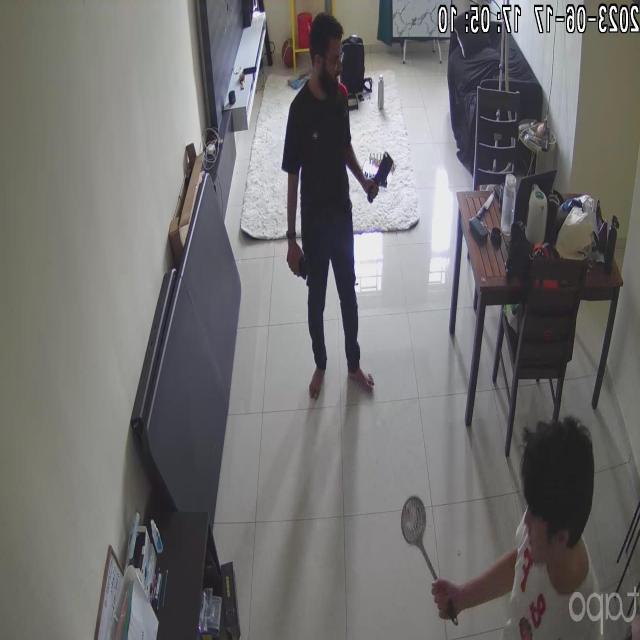Knife: (362, 149, 400, 206)
